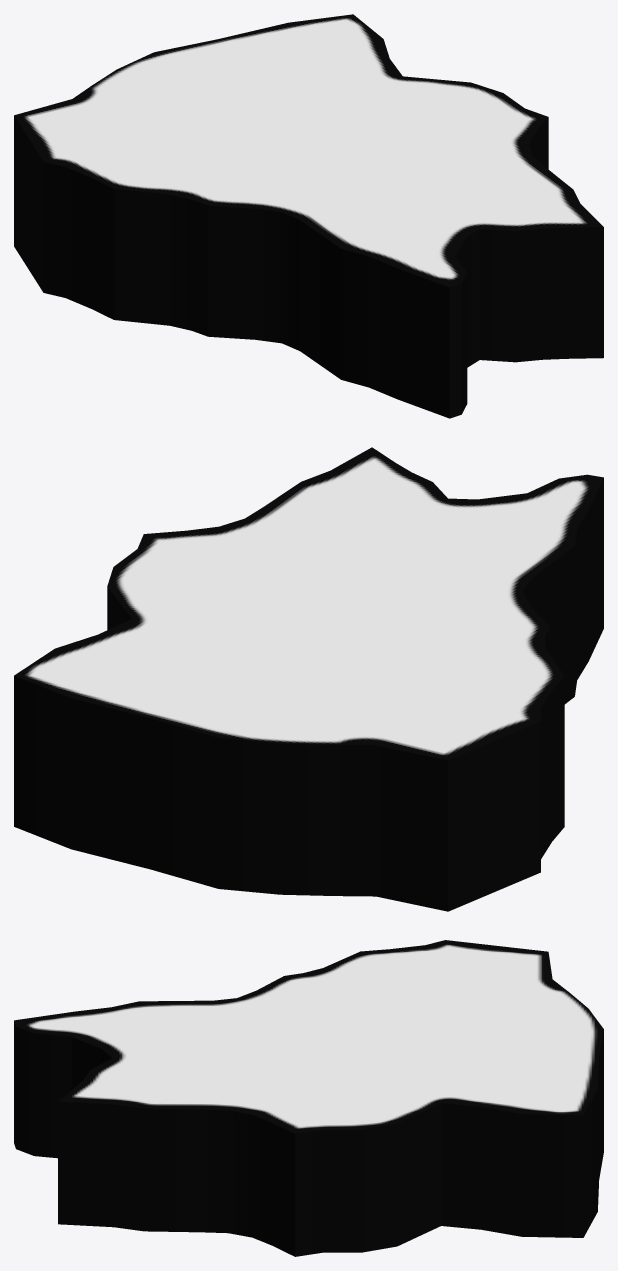
The picture shows the model from 3 angles, top to bottom: view 1: azimuth 30°, elevation 25°; view 2: azimuth 150°, elevation 25°; view 3: azimuth 270°, elevation 25°; orthographic projection. The views are drawn at different scales.
Parts seen in each view (by area): view 1: polySurface8; view 2: polySurface8; view 3: polySurface8.
Part boxes in pixels (bbox=[...]): polySurface8: bbox=[14, 14, 603, 418]; polySurface8: bbox=[14, 447, 603, 911]; polySurface8: bbox=[14, 940, 603, 1256].
Size of the model in its own units: 1.7 by 0.5 by 2.18.
